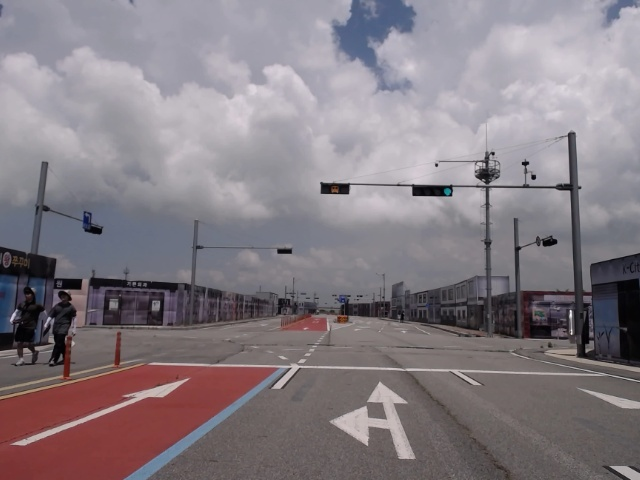straight_green_4: (413, 186, 454, 196)
